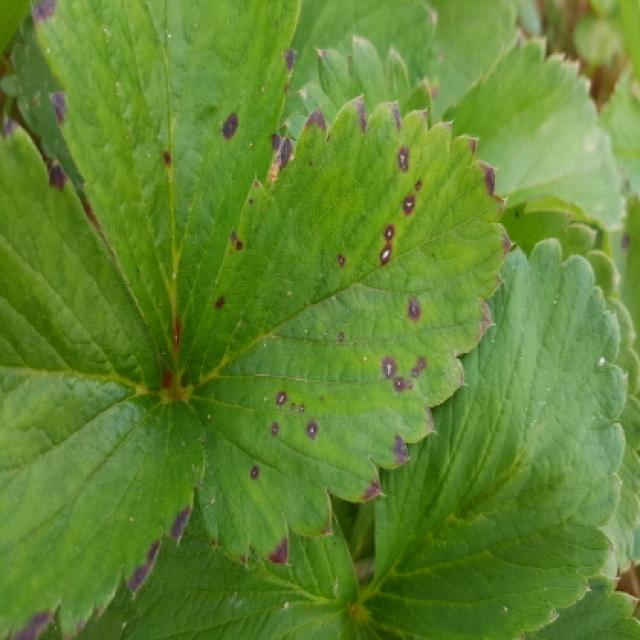Leaf Spot: (181, 93, 516, 567), (27, 0, 304, 383)
